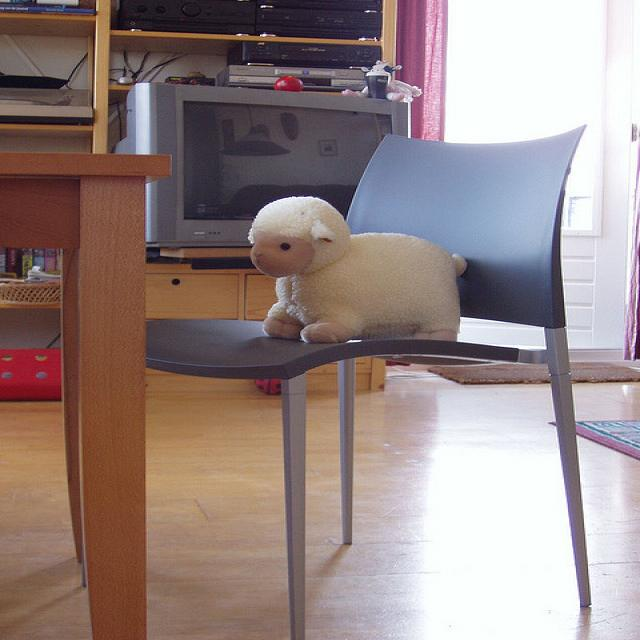chair: (145, 127, 595, 632)
dining table: (2, 154, 167, 628)
